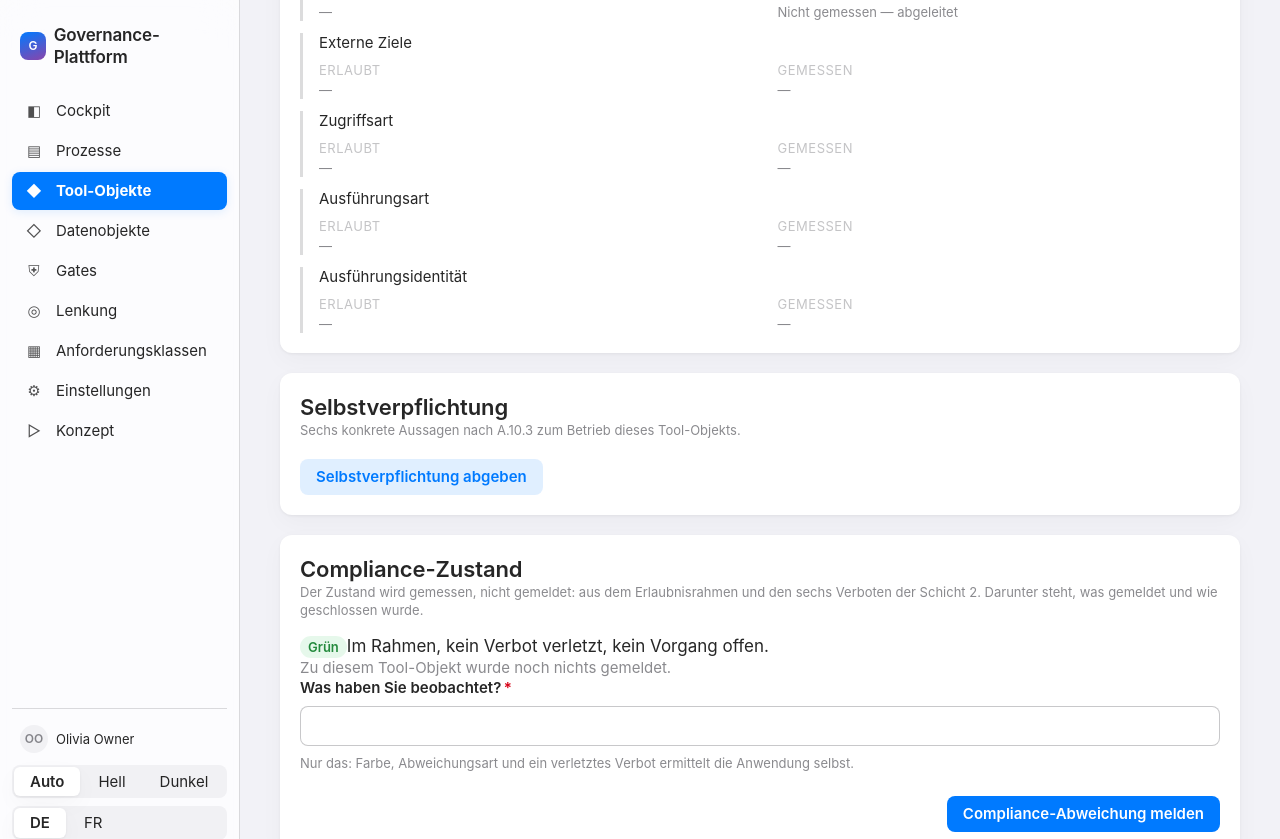
Test case: Compliance-Zeitreihe › sagt es, wenn schon ein ungeklaerter Vorgang laeuft
The image size is (1280, 839).
(page scrolled)
Step 1. Type "Nochmal" into the field labelled "Was haben Sie beobachtet?" → (760, 726), box 300,706 -> 1220,746
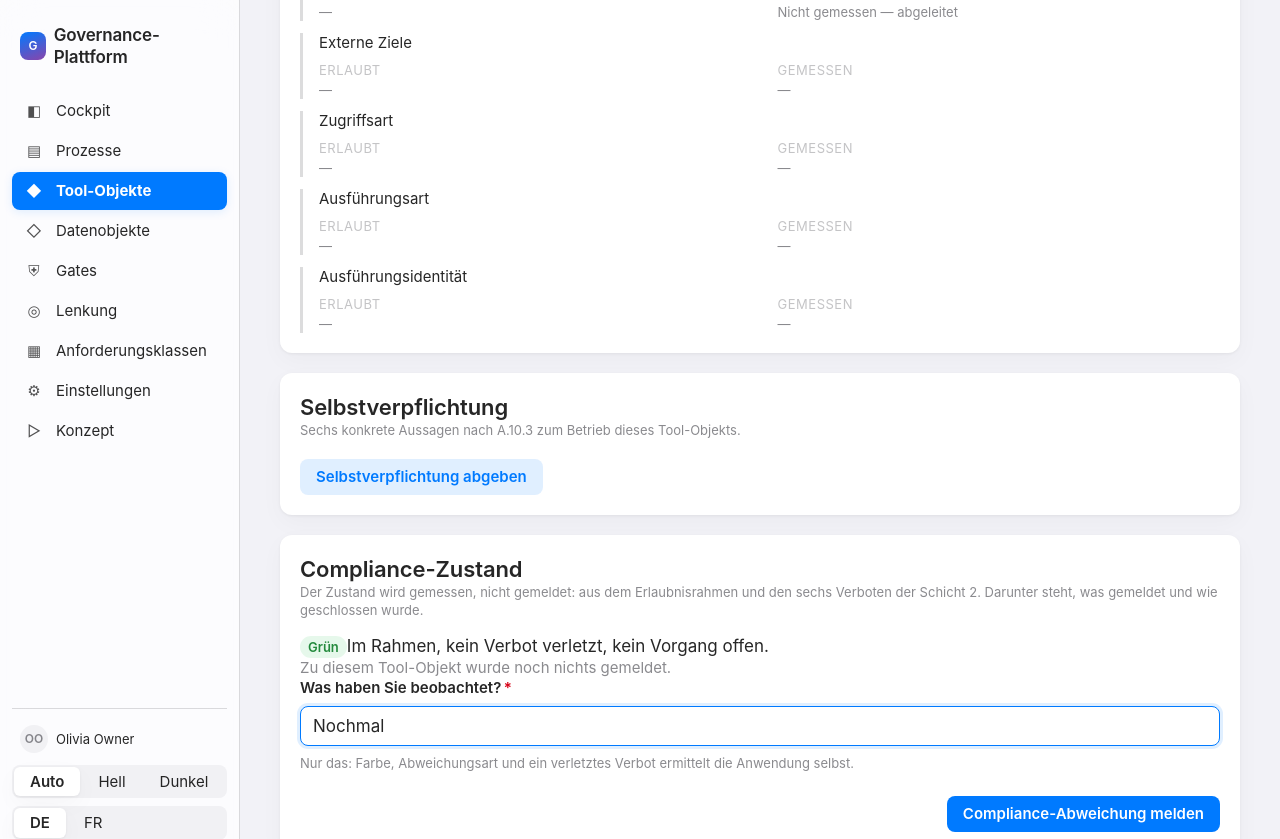
Step 2. Click the button with test id "abweichung-melden" → (1083, 814), box 947,796 -> 1220,832
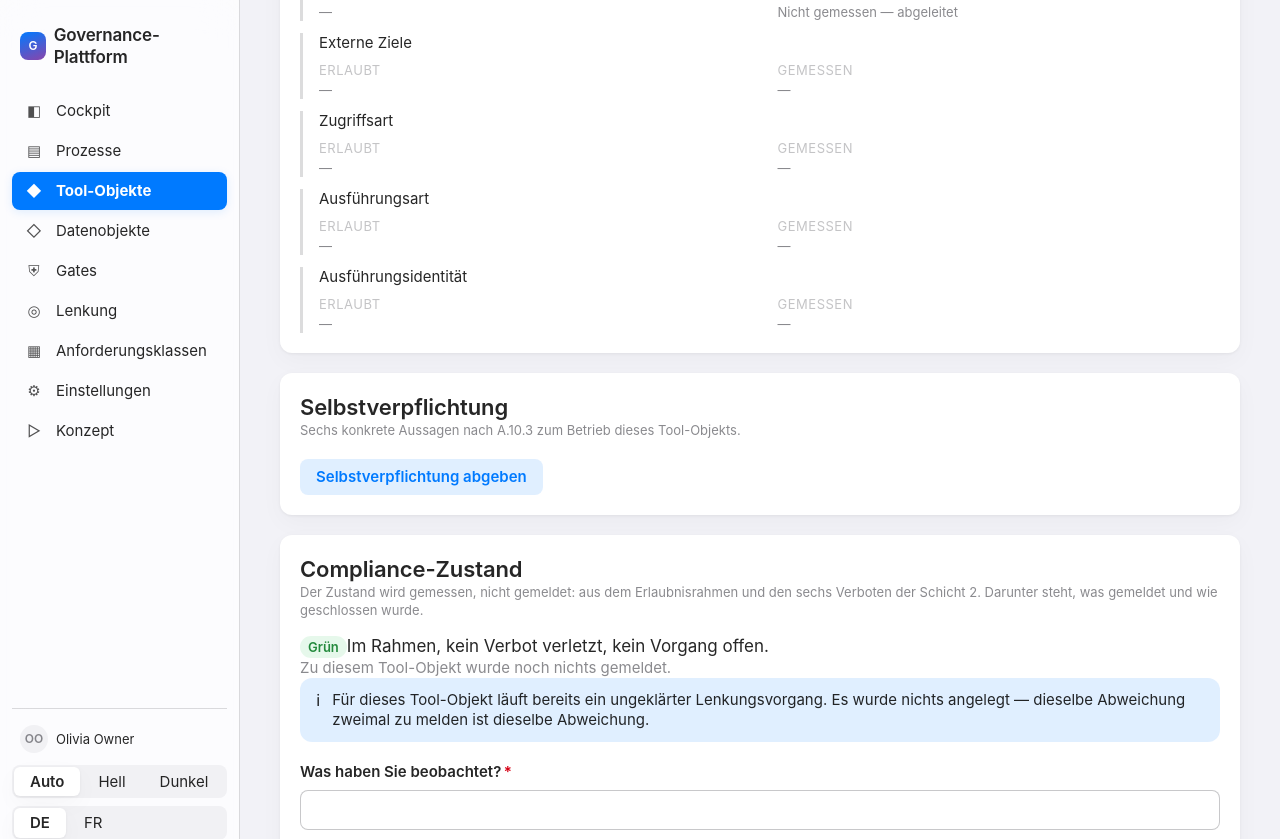
Expected: the text "Es wurde nichts angelegt" is shown, 332,690 -> 1185,729
